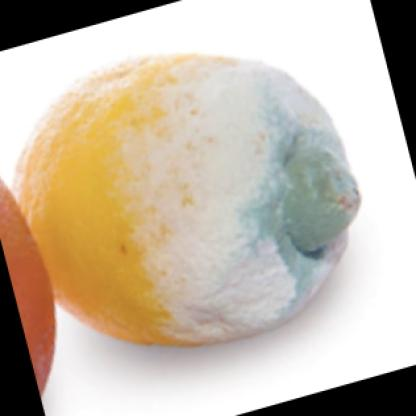rotten: (20, 57, 362, 346)
